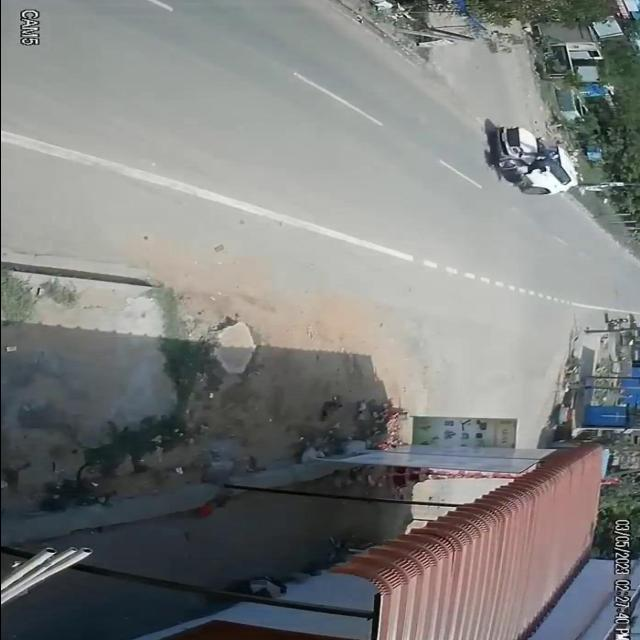accident: (469, 116, 591, 204)
